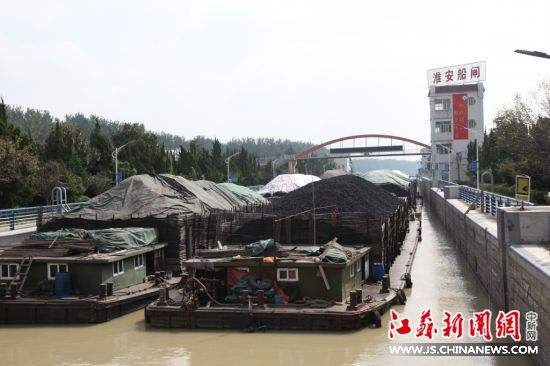boat: (156, 175, 423, 313), (1, 183, 218, 320)
